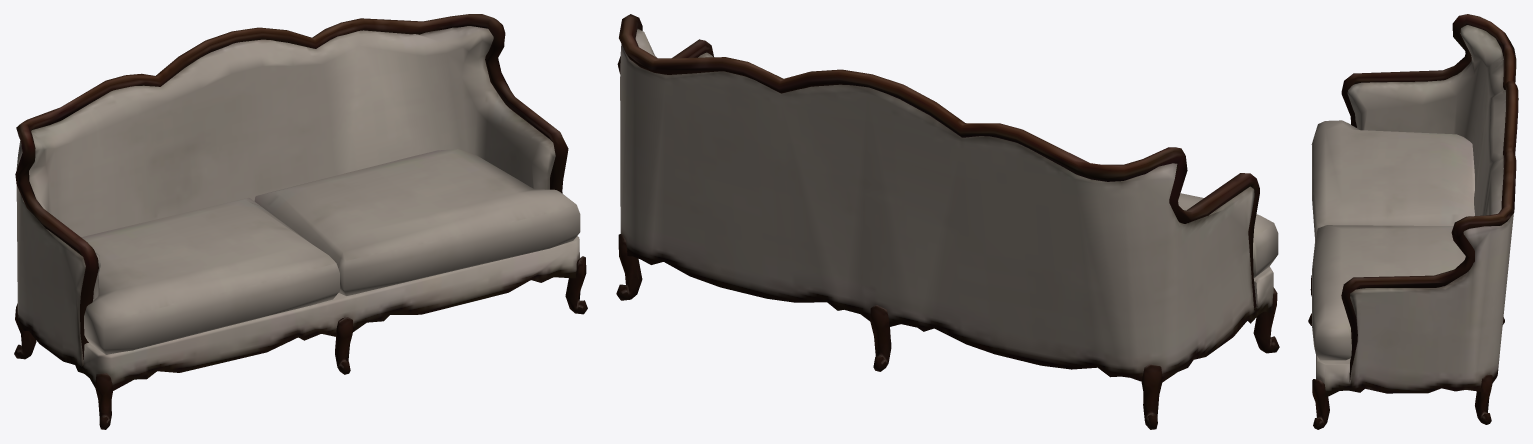
Rendered from sofa.glb.
The picture shows the model from 3 angles, left to right: view 1: azimuth 30°, elevation 25°; view 2: azimuth 150°, elevation 25°; view 3: azimuth 270°, elevation 25°; orthographic projection. The views are drawn at different scales.
Parts seen in each view (by area): view 1: Sofa_01; view 2: Sofa_01; view 3: Sofa_01.
Boxes of the visible parts, x1,y1,x2,y2 form: Sofa_01: (14,14,587,429); Sofa_01: (616,14,1279,429); Sofa_01: (1308,14,1518,429).
Size of the model in its own units: 1.57 by 0.7954 by 0.658.
1 material, 1 textured.
